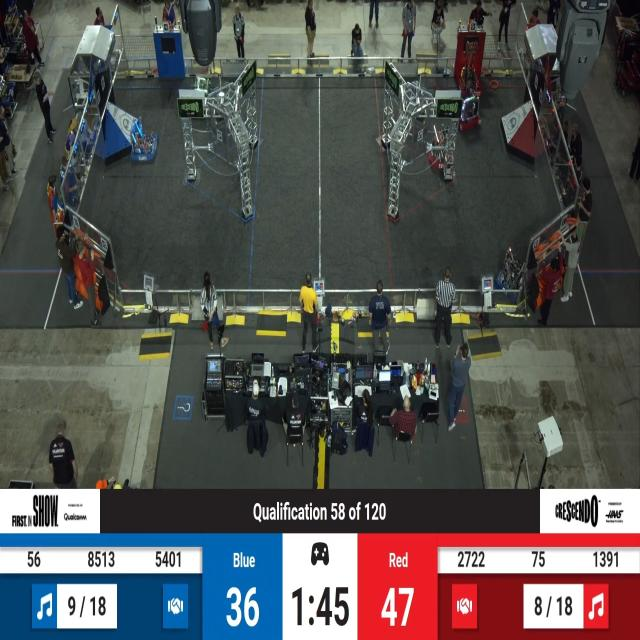Robot: (492, 241, 530, 306), (448, 85, 491, 139), (458, 34, 488, 104), (188, 64, 219, 123), (427, 118, 456, 174), (128, 115, 159, 165)
